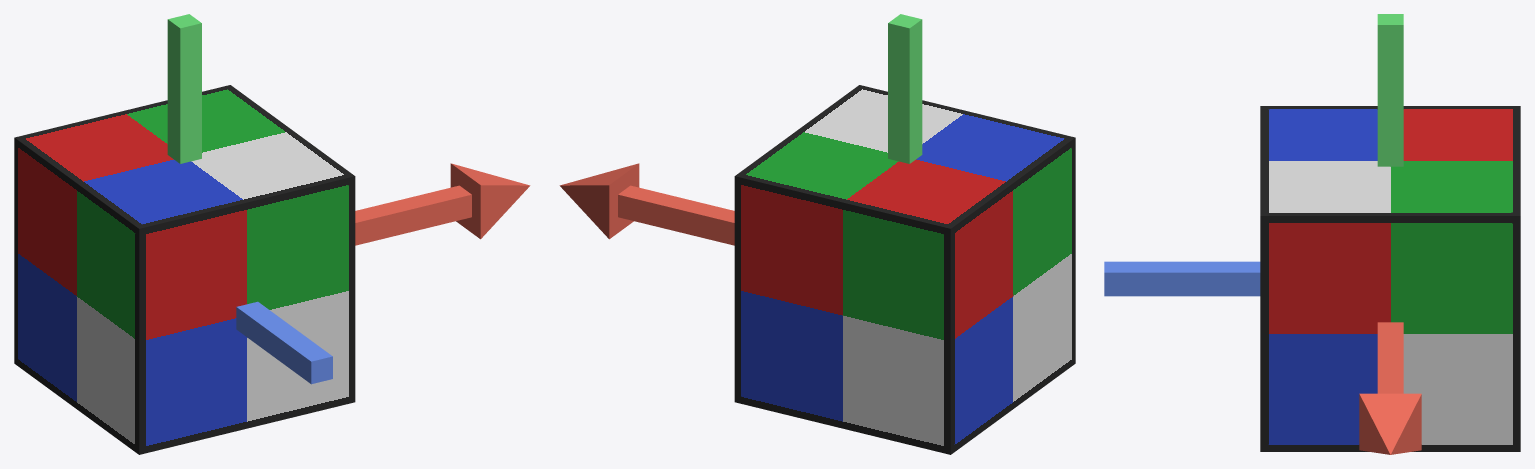
Rendered from reference.glb.
The picture shows the model from 3 angles, left to right: view 1: azimuth 30°, elevation 25°; view 2: azimuth 150°, elevation 25°; view 3: azimuth 270°, elevation 25°; orthographic projection. The views are drawn at different scales.
Visible parts, largest first — view 1: cube, arrow x, marker y, marker z; view 2: cube, arrow x, marker y; view 3: cube, arrow x, marker z, marker y.
Boxes of the visible parts, x1,y1,x2,y2 form: cube: (14, 85, 355, 454); arrow x: (355, 163, 530, 245); marker y: (167, 14, 201, 163); marker z: (236, 301, 332, 384); cube: (734, 85, 1075, 454); arrow x: (559, 163, 734, 245); marker y: (888, 14, 922, 163); cube: (1260, 106, 1520, 451); arrow x: (1359, 322, 1421, 454); marker z: (1104, 261, 1260, 296); marker y: (1377, 14, 1403, 166).
Size of the model in its own units: 2.1 by 1.6 by 1.6.
Materials: 4 (1 with a texture image).
